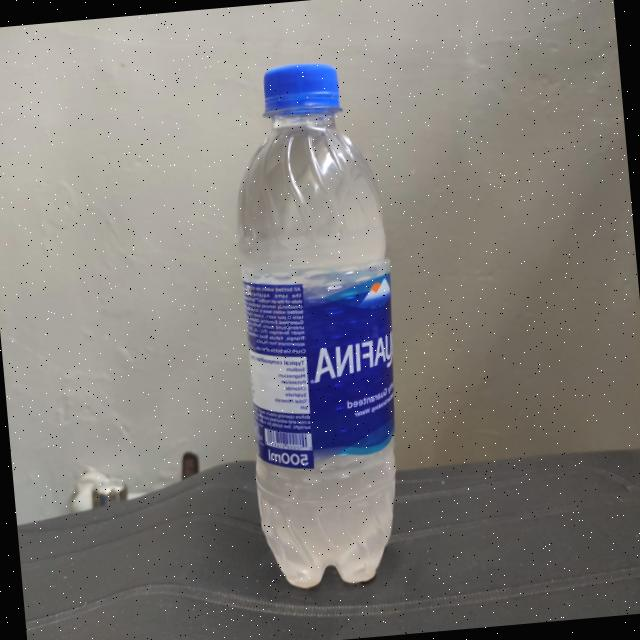bottle: (210, 52, 423, 592)
cap: (249, 54, 350, 129)
label: (233, 266, 402, 466)
